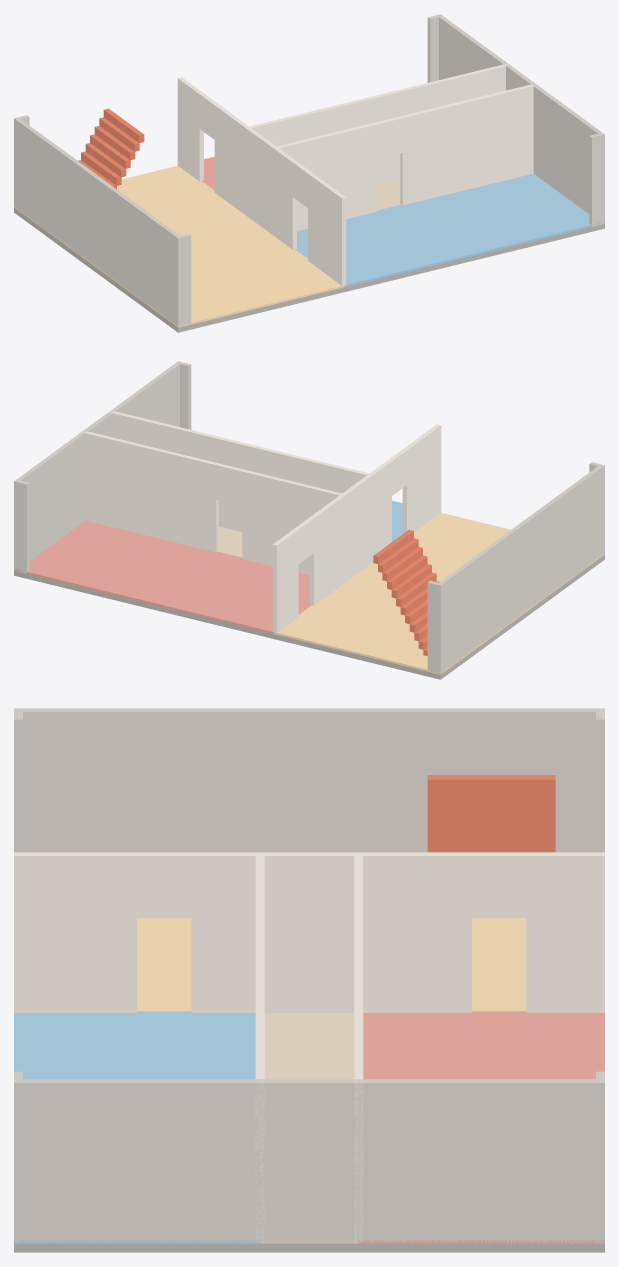
The picture shows the model from 3 angles, top to bottom: view 1: azimuth 30°, elevation 25°; view 2: azimuth 150°, elevation 25°; view 3: azimuth 270°, elevation 25°; orthographic projection. The views are drawn at different scales.
Parts seen in each view (by area): view 1: SyntheticIndoor; view 2: SyntheticIndoor; view 3: SyntheticIndoor.
Boxes of the visible parts, x1=… form: SyntheticIndoor: x1=14, y1=14, x2=604, y2=332; SyntheticIndoor: x1=14, y1=361, x2=604, y2=679; SyntheticIndoor: x1=14, y1=708, x2=604, y2=1252.
Bounding box in the file's own units: 18 × 3.8 × 12.
